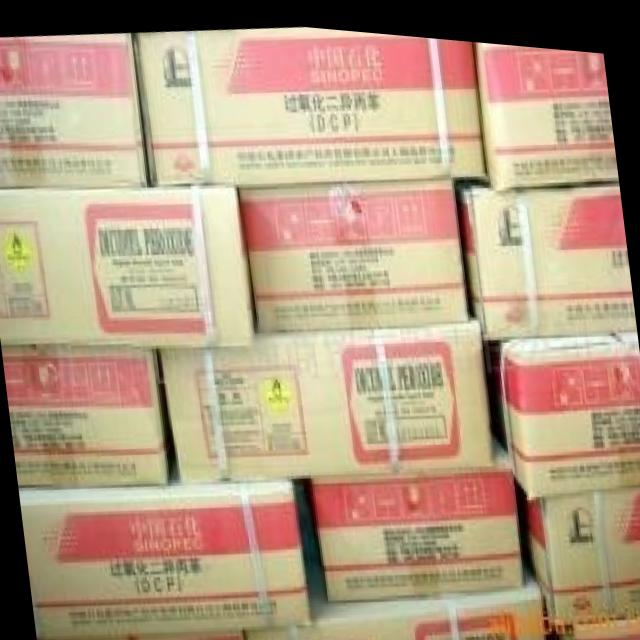box: (159, 305, 494, 480), (135, 23, 487, 185), (18, 474, 312, 636), (0, 182, 255, 345), (304, 429, 526, 596), (237, 170, 467, 324), (456, 171, 635, 330), (484, 323, 640, 489), (244, 556, 547, 640), (1, 344, 169, 487), (0, 31, 148, 189), (475, 33, 617, 182), (517, 473, 640, 619), (36, 622, 247, 640), (555, 604, 640, 640)
